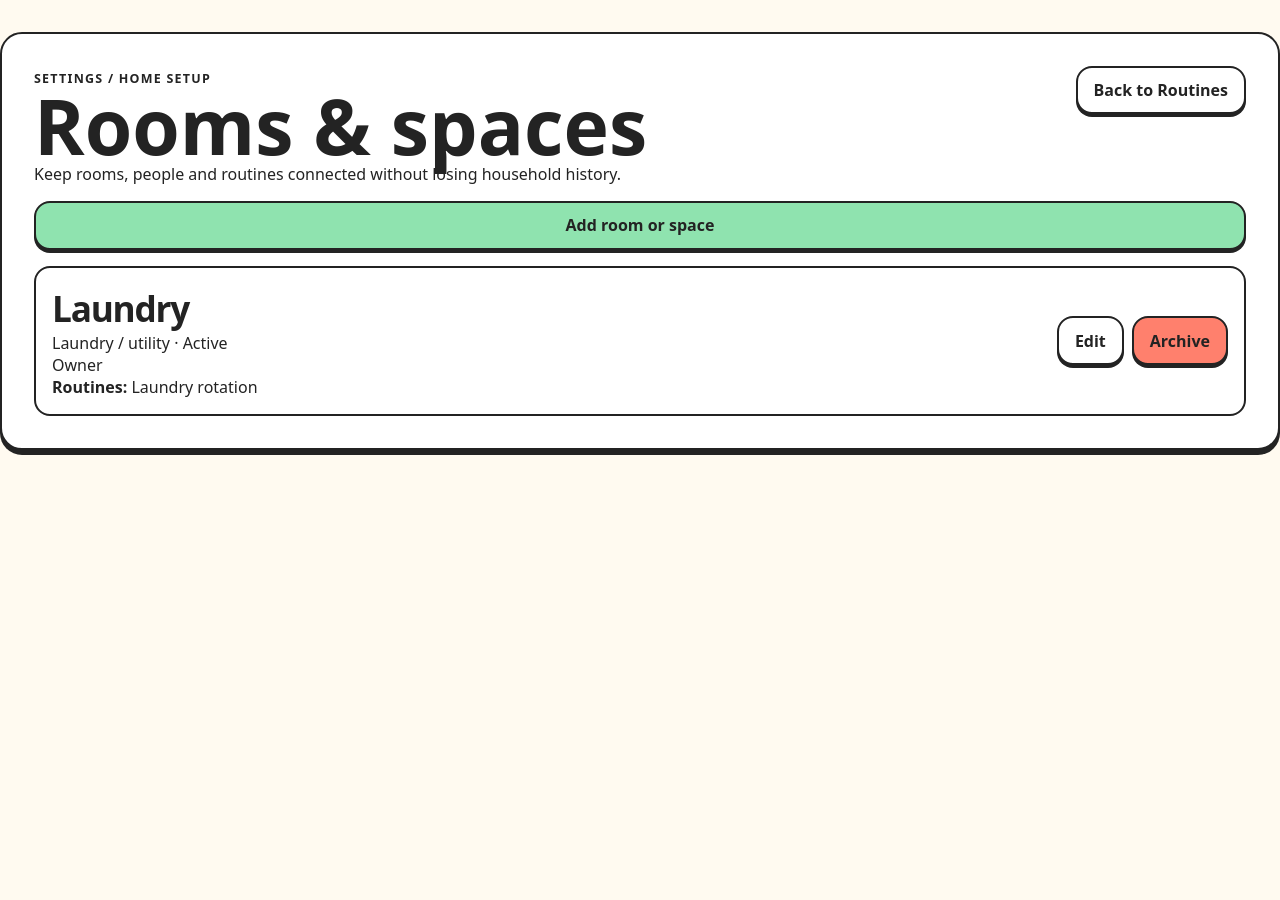
Test: Rooms & spaces allocation safety › shows room type, assigned people and associated routines in management
This screenshot has width=1280, height=900.
Expected: the heading "Laundry" is shown, [52,284,189,332]
Expected: the text "Laundry / utility · Active" is shown, [52,332,258,354]
Click the button "Edit".
click(1090, 341)  # box [1057,316,1124,365]
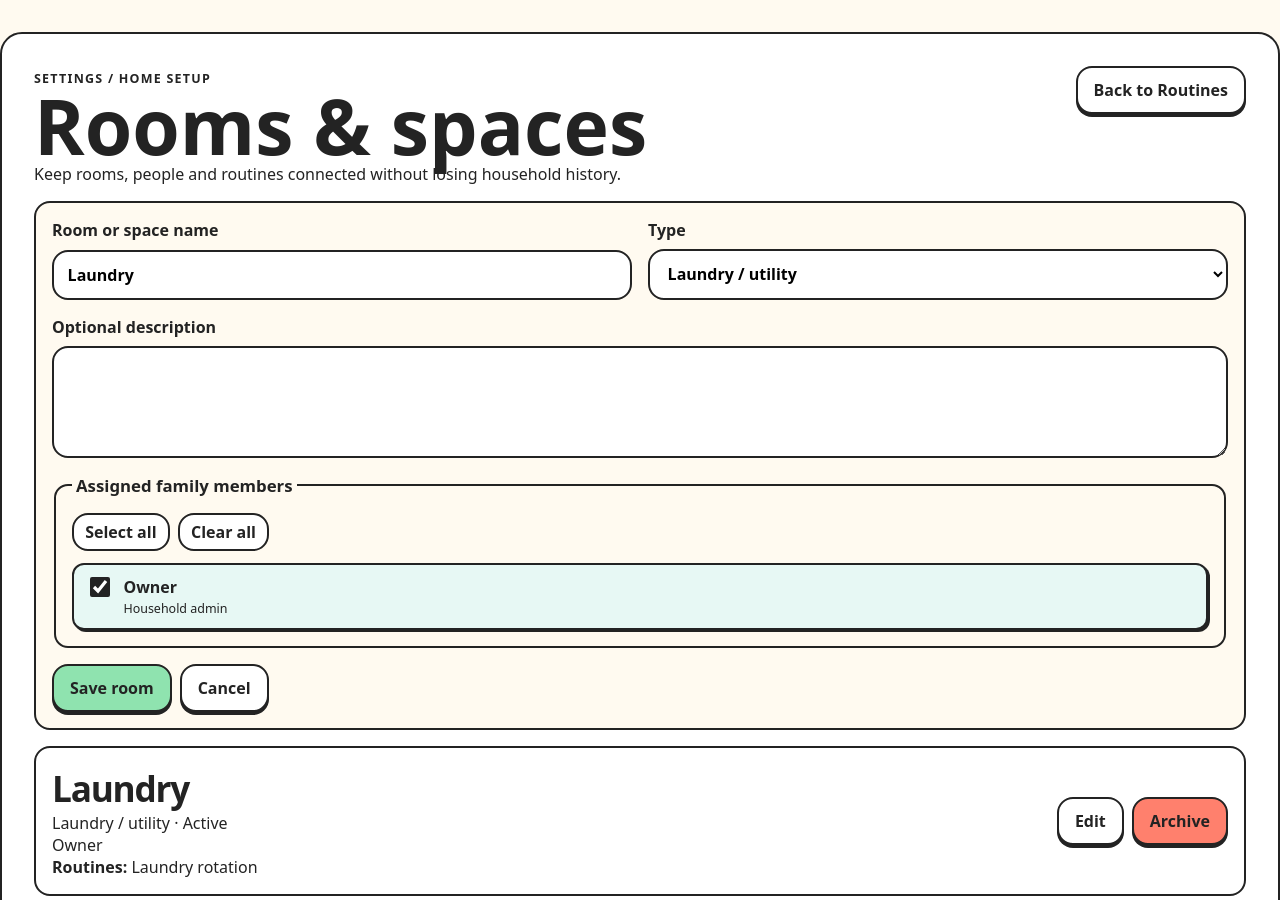
Now the dropdown labelled "Type" shows "Laundry / utility", box [648,249,1228,300]
